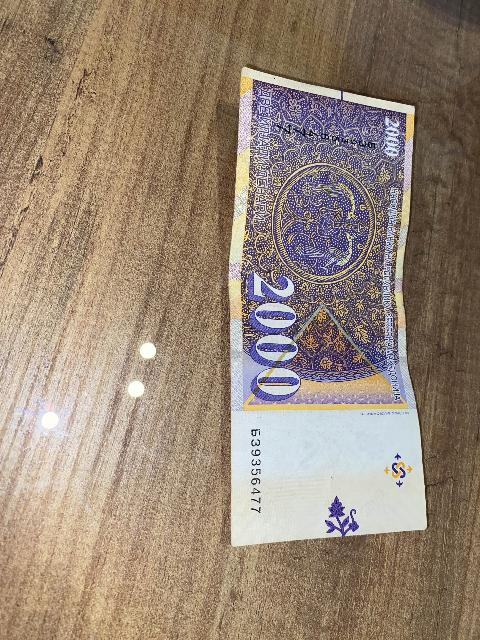2000_note: (230, 69, 426, 545)
